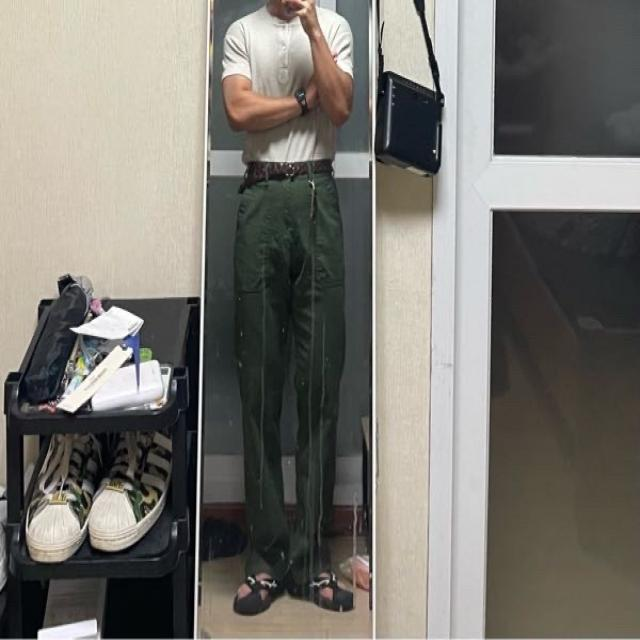cottonpants: (238, 160, 344, 598)
shortsleeve: (218, 8, 350, 168)
